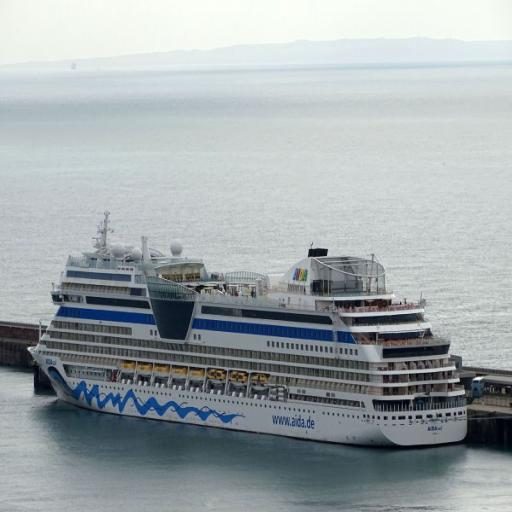cruises: (25, 210, 475, 456)
